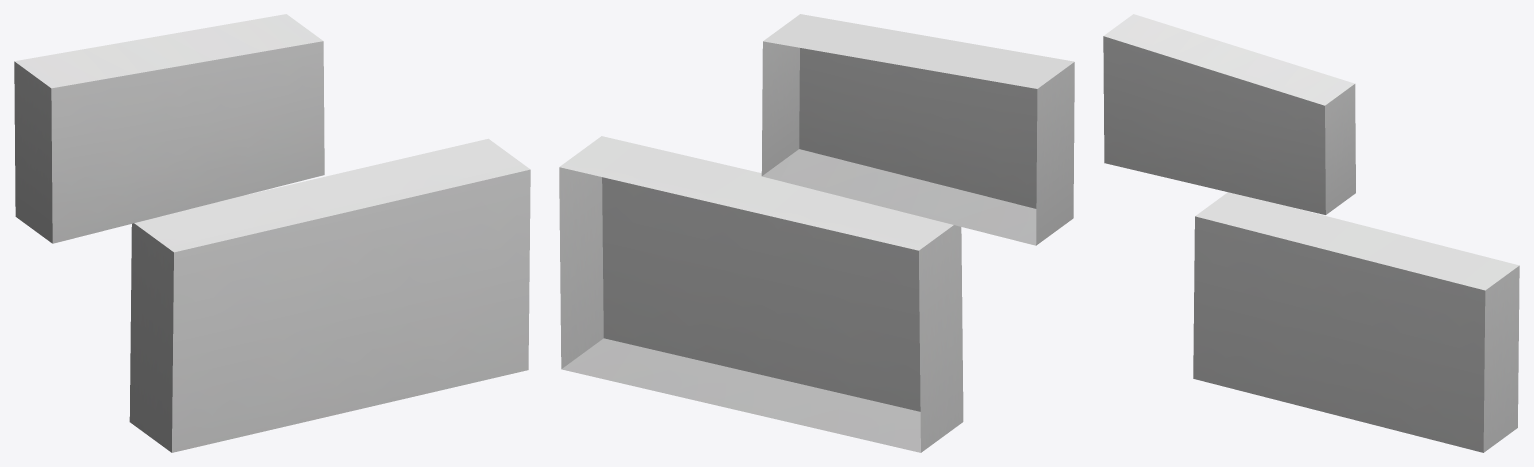
Rendered from Bricks_03.fbx.
3 renders of one model, left to right at view 1: azimuth 30°, elevation 25°; view 2: azimuth 150°, elevation 25°; view 3: azimuth 330°, elevation 25°, orthographic. The views are drawn at different scales.
Visible parts, largest first — view 1: Bricks_03; view 2: Bricks_03; view 3: Bricks_03.
Boxes of the visible parts, x1=… form: Bricks_03: x1=14, y1=14, x2=530, y2=452; Bricks_03: x1=559, y1=14, x2=1074, y2=452; Bricks_03: x1=1103, y1=14, x2=1519, y2=452.
Size of the model in its own units: 98.96 by 78.4 by 15.23.
Materials: 1 (1 with a texture image).
